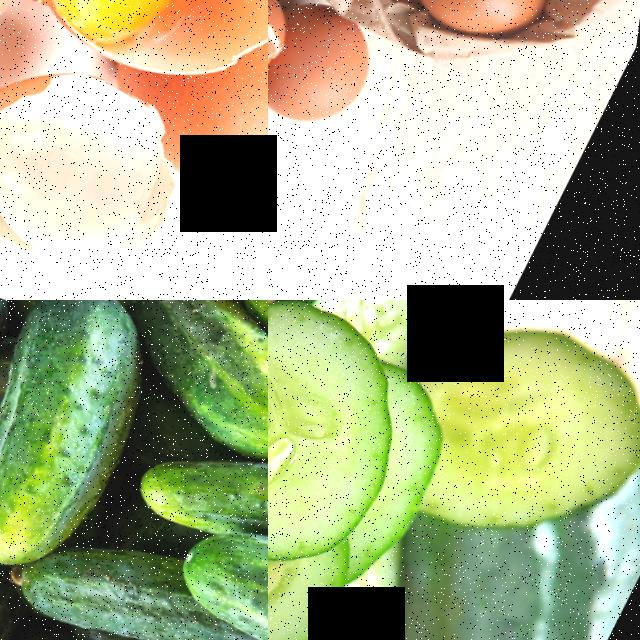cucumber: (340, 319, 640, 640), (268, 300, 457, 593), (0, 300, 187, 588), (115, 300, 268, 484), (13, 522, 245, 640)
egg_: (142, 39, 268, 226), (268, 0, 408, 144), (13, 0, 241, 72), (405, 0, 581, 63)
